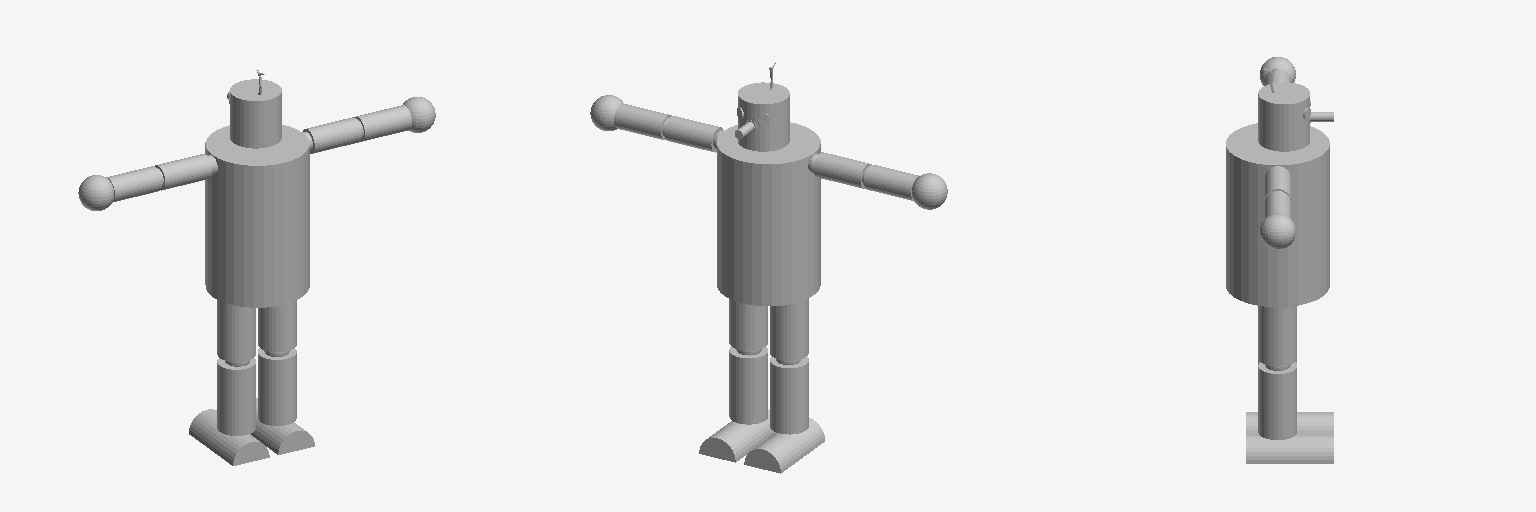
3 views of the same model, side by side, from view 1: azimuth 30°, elevation 25°; view 2: azimuth 150°, elevation 25°; view 3: azimuth 270°, elevation 25° (orthographic).
Visible parts, largest first — view 1: Body_Cylinder.006, Head_Cube.002, Left_Leg_Cylinder.025, Right_Leg_Cylinder.021, Left_Thigh_Cylinder.024, Right_Leg.001_Cylinder.001, Right_Thigh_Cylinder.010, Right_Leg.002_Cylinder.002, Right_ForeArm_Cylinder, Left_ForeArm_Cylinder.009, Right_Arm_Cylinder.007, Left_Arm_Cylinder.008 (+2 smaller); view 2: Body_Cylinder.006, Head_Cube.002, Left_Leg_Cylinder.025, Right_Leg_Cylinder.021, Right_Leg.001_Cylinder.001, Left_Thigh_Cylinder.024, Right_Leg.002_Cylinder.002, Right_Thigh_Cylinder.010, Right_ForeArm_Cylinder, Left_ForeArm_Cylinder.009, Right_Arm_Cylinder.007, Left_Arm_Cylinder.008 (+2 smaller); view 3: Body_Cylinder.006, Head_Cube.002, Right_Leg_Cylinder.021, Right_Leg.002_Cylinder.002, Right_Thigh_Cylinder.010, Right_Leg.001_Cylinder.001, Right_Hand_Sphere.002, Right_ForeArm_Cylinder, Right_Arm_Cylinder.007.
Boxes of the visible parts, x1,y1,x2,y2 form: Body_Cylinder.006: [205, 125, 309, 307]; Head_Cube.002: [227, 70, 281, 148]; Left_Leg_Cylinder.025: [217, 358, 255, 435]; Right_Leg_Cylinder.021: [258, 348, 296, 425]; Left_Thigh_Cylinder.024: [217, 300, 255, 361]; Right_Leg.001_Cylinder.001: [189, 409, 269, 465]; Right_Thigh_Cylinder.010: [258, 300, 296, 351]; Right_Leg.002_Cylinder.002: [251, 398, 314, 454]; Right_ForeArm_Cylinder: [303, 117, 361, 153]; Left_ForeArm_Cylinder.009: [155, 154, 211, 190]; Right_Arm_Cylinder.007: [354, 105, 411, 141]; Left_Arm_Cylinder.008: [106, 166, 161, 202]; Body_Cylinder.006: [717, 122, 820, 305]; Head_Cube.002: [735, 62, 789, 151]; Left_Leg_Cylinder.025: [770, 356, 808, 434]; Right_Leg_Cylinder.021: [729, 346, 767, 424]; Right_Leg.001_Cylinder.001: [744, 418, 824, 473]; Left_Thigh_Cylinder.024: [770, 298, 808, 360]; Right_Leg.002_Cylinder.002: [699, 409, 775, 462]; Right_Thigh_Cylinder.010: [729, 299, 767, 350]; Right_ForeArm_Cylinder: [664, 116, 723, 152]; Left_ForeArm_Cylinder.009: [814, 152, 871, 188]; Right_Arm_Cylinder.007: [614, 104, 671, 139]; Left_Arm_Cylinder.008: [864, 165, 918, 200]; Body_Cylinder.006: [1226, 123, 1329, 306]; Head_Cube.002: [1258, 68, 1333, 151]; Right_Leg_Cylinder.021: [1258, 362, 1296, 439]; Right_Leg.002_Cylinder.002: [1246, 434, 1333, 463]; Right_Thigh_Cylinder.010: [1258, 306, 1296, 365]; Right_Leg.001_Cylinder.001: [1246, 412, 1333, 433]; Right_Hand_Sphere.002: [1260, 213, 1295, 249]; Right_ForeArm_Cylinder: [1265, 166, 1290, 199]; Right_Arm_Cylinder.007: [1265, 191, 1290, 217].
Bounding box in the file's own units: 15.6 × 15.9 × 4.16.